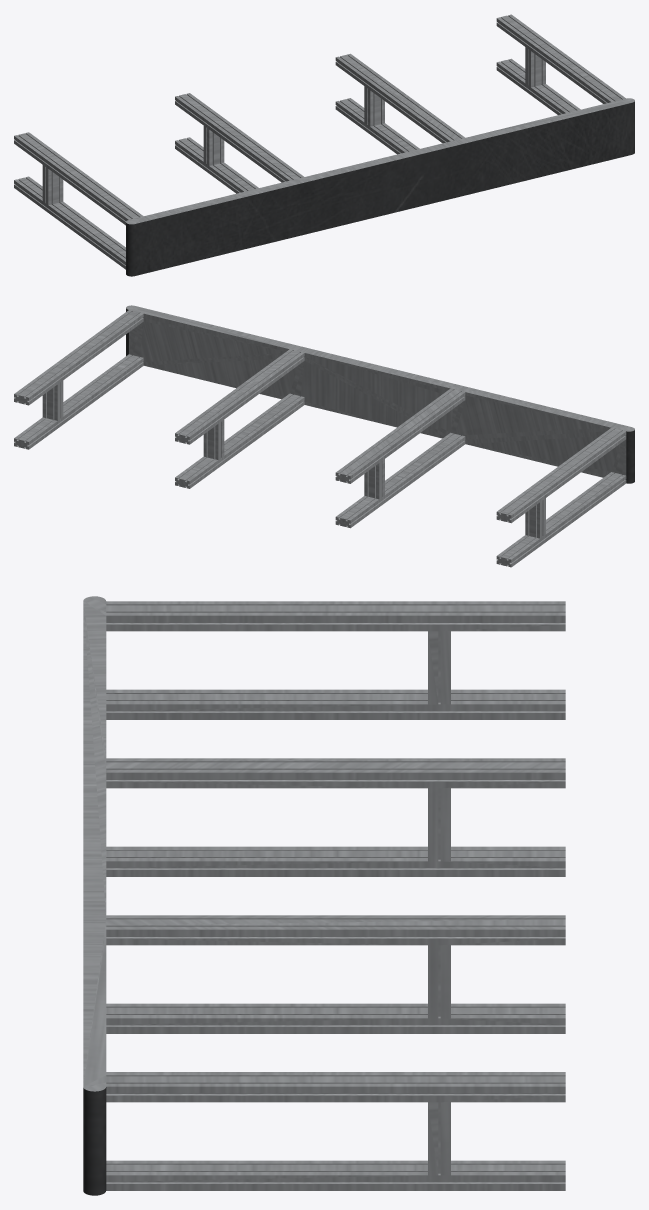
File: conveyor.glb
3 renders of one model, top to bottom at view 1: azimuth 30°, elevation 25°; view 2: azimuth 150°, elevation 25°; view 3: azimuth 270°, elevation 25°, orthographic. The views are drawn at different scales.
Visible parts, largest first — view 1: conveyor_updated; view 2: conveyor_updated; view 3: conveyor_updated.
Boxes of the visible parts, x1,y1,x2,y2 form: conveyor_updated: (14, 14, 634, 276); conveyor_updated: (14, 305, 634, 567); conveyor_updated: (83, 596, 565, 1195).
Bounding box in the file's own units: 1.02 × 0.1 × 0.42.
2 materials, 2 textured.
